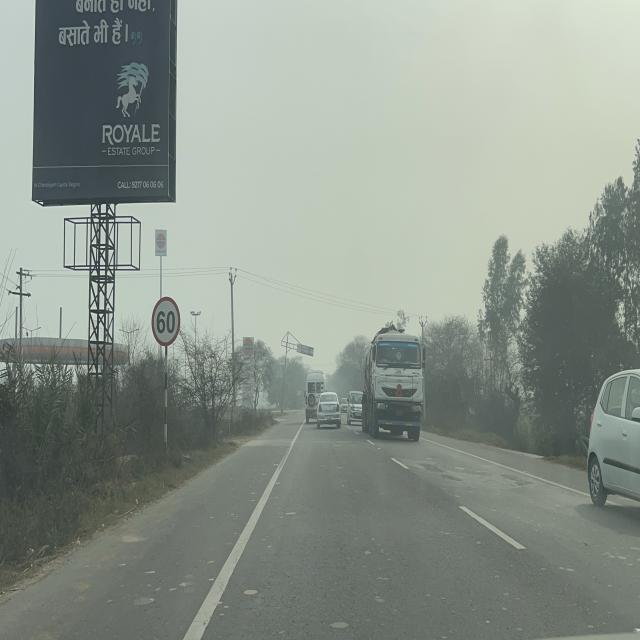SPEED_LIMIT_60: (151, 296, 180, 347)
